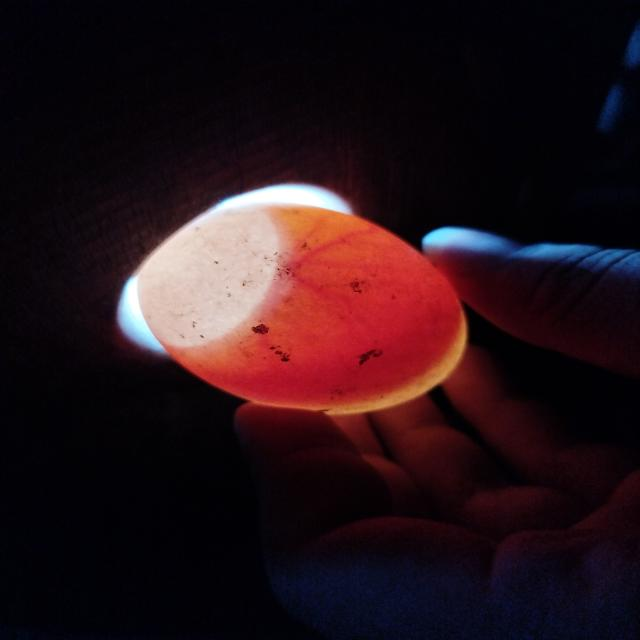Camara de Ar: (138, 204, 278, 347)
